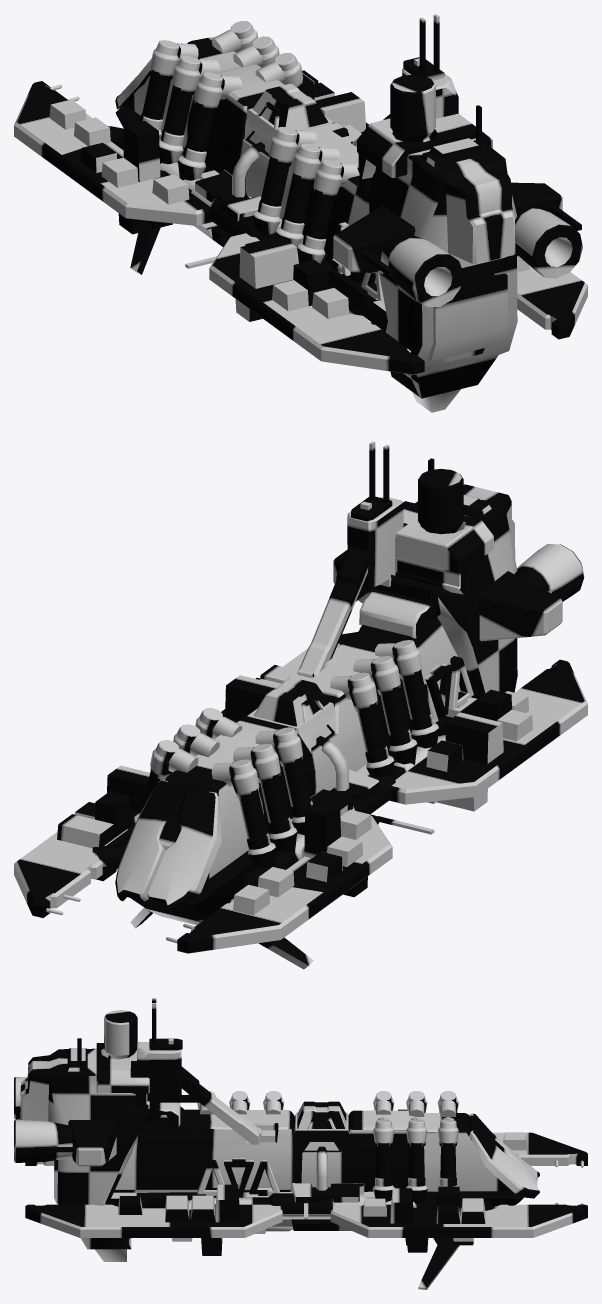
Rendered from demaner_freighter.obj.
The picture shows the model from 3 angles, top to bottom: view 1: azimuth 30°, elevation 25°; view 2: azimuth 150°, elevation 25°; view 3: azimuth 270°, elevation 25°; orthographic projection. The views are drawn at different scales.
Visible parts, largest first — view 1: demander_freighter_lowpoly, Object001; view 2: demander_freighter_lowpoly, Object001; view 3: demander_freighter_lowpoly, Object001.
Boxes of the visible parts, x1=… form: demander_freighter_lowpoly: x1=49, y1=14, x2=587, y2=374; Object001: x1=14, y1=40, x2=517, y2=412; demander_freighter_lowpoly: x1=14, y1=441, x2=587, y2=943; Object001: x1=130, y1=484, x2=517, y2=969; demander_freighter_lowpoly: x1=14, y1=998, x2=587, y2=1255; Object001: x1=20, y1=1041, x2=587, y2=1289.
Size of the model in its own units: 297 by 386 by 749.
Materials: 2 (2 with a texture image).
